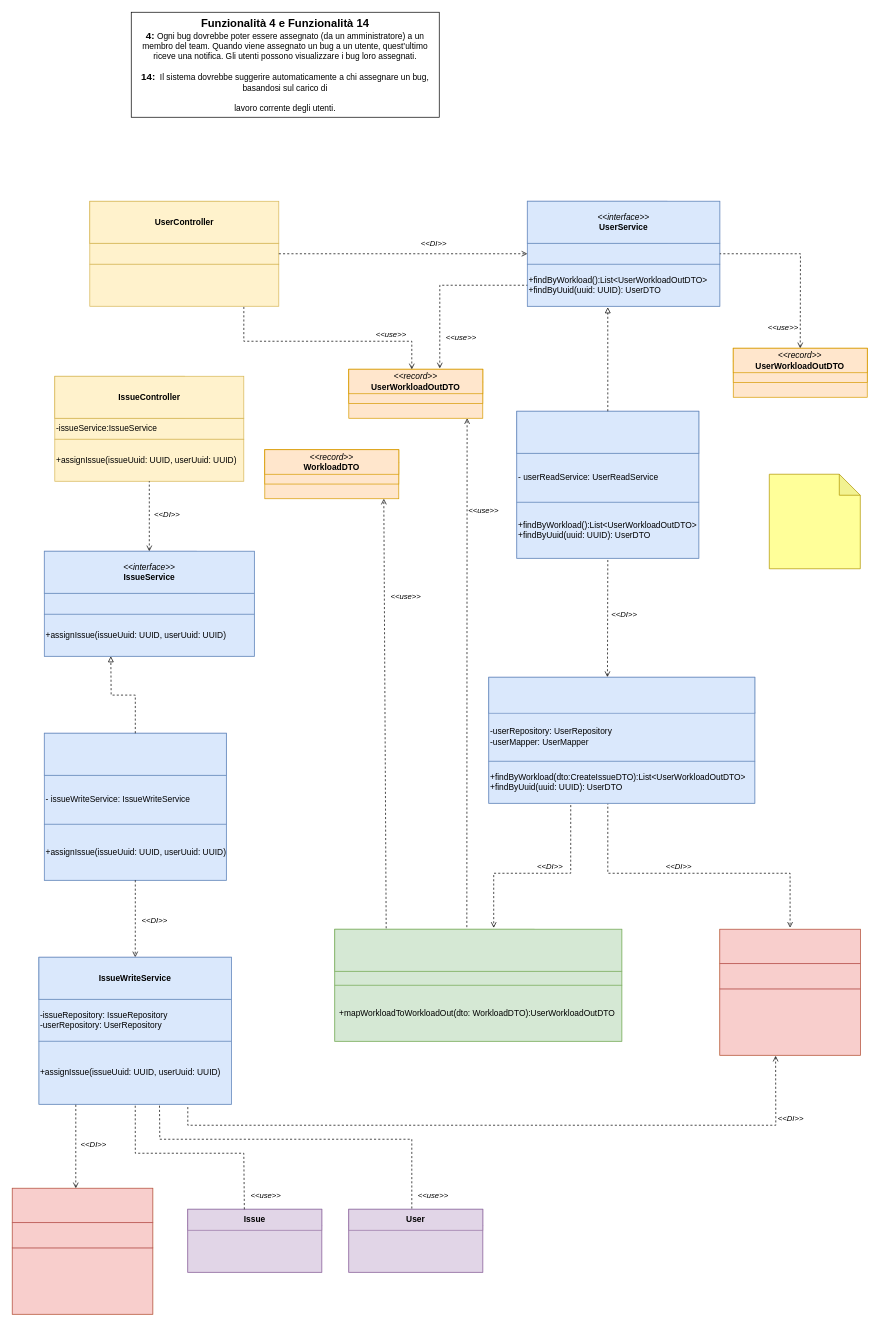
The diagram is 880 pixels wide and 1327 high, and some of its shapes have lost their labels. The shapes that lost their labels are listed below. From the top down, each one's box as (x1, y1, x2, y2) in pixels, then its label:
(89, 243, 279, 264): -userService:UserService
(89, 264, 279, 306): +findByWorkload():List<UserWorkloadOutDTO>
(516, 411, 699, 453): UserServiceImpl
(769, 474, 860, 569): La notazione <<DI>> indica una Dependency Injection
(488, 677, 755, 713): UserReadService
(44, 733, 226, 775): IssueServiceImpl
(334, 929, 622, 971): UserMapper
(719, 929, 860, 964): <<interface>> IssueRepository
(12, 1188, 153, 1223): <<interface>> UserRepository
